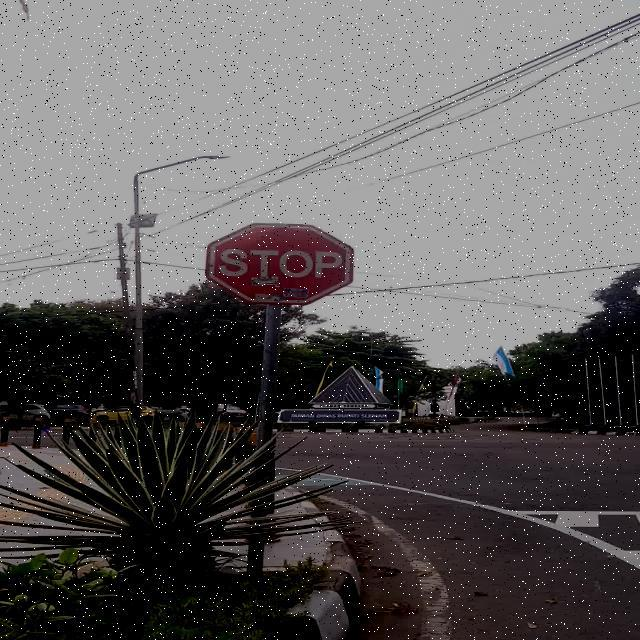Berhenti: (206, 223, 354, 304)
